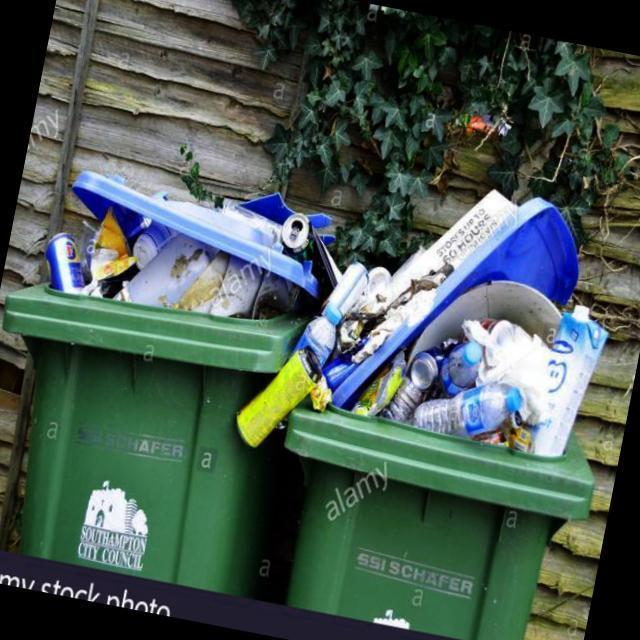garbage: (284, 155, 630, 468), (45, 194, 274, 335)
